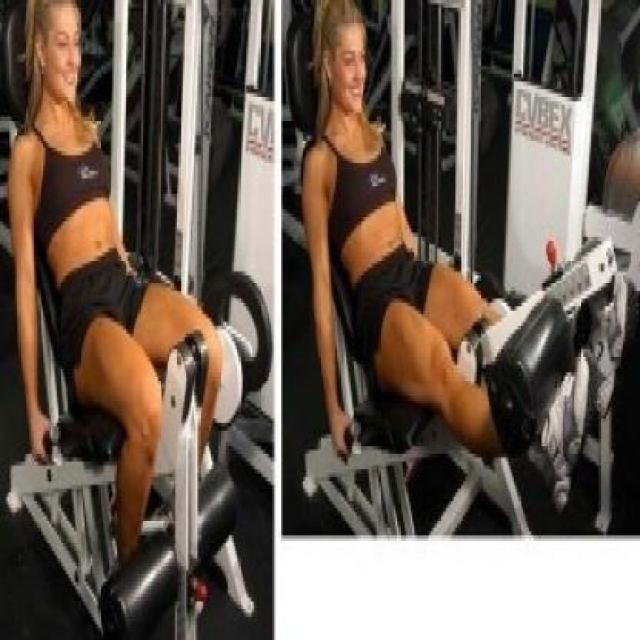leg extension: (296, 3, 636, 539), (0, 0, 271, 640)
